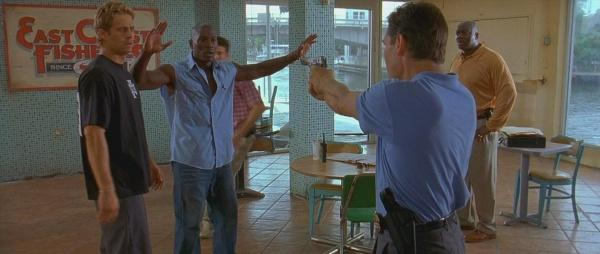Gun: (299, 56, 329, 70)
